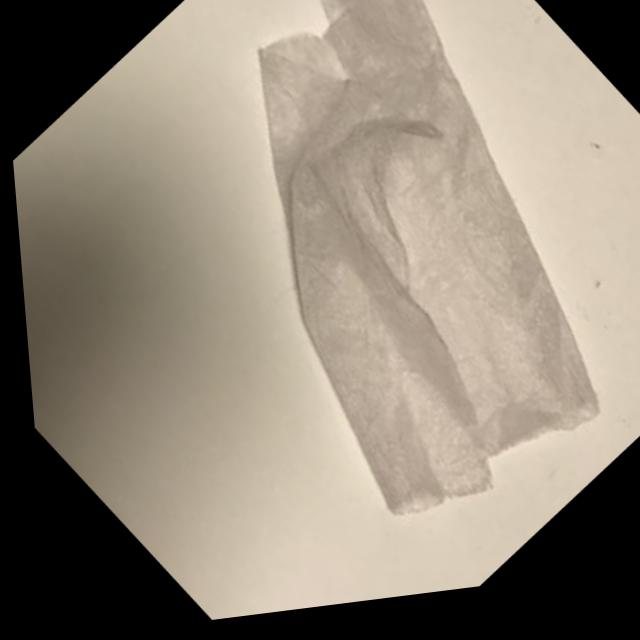trash: (2, 0, 640, 640)
